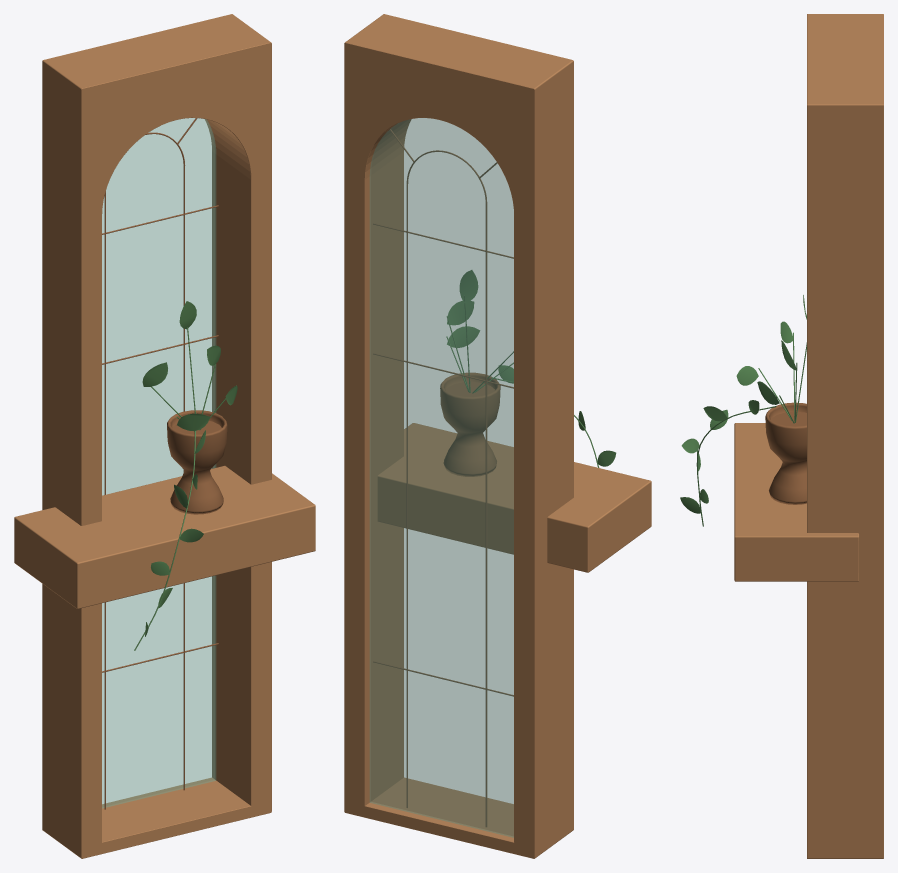
The model's file is 拱形玻璃玄关台-lite.glb.
3 renders of one model, left to right at view 1: azimuth 30°, elevation 25°; view 2: azimuth 150°, elevation 25°; view 3: azimuth 270°, elevation 25°, orthographic. The views are drawn at different scales.
Visible parts, largest first — view 1: structure-assembly; view 2: structure-assembly; view 3: structure-assembly.
Boxes of the visible parts, x1,y1,x2,y2 form: structure-assembly: (14,14,315,858); structure-assembly: (344,14,651,858); structure-assembly: (680,14,883,858).
Bounding box in the file's own units: 0.78 × 2.4 × 0.5879.
